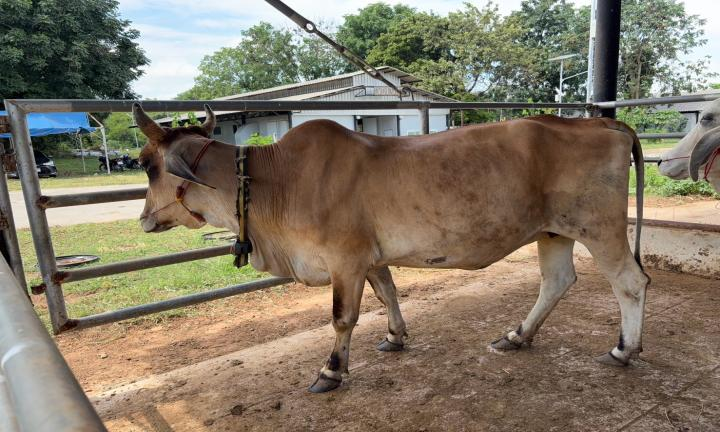Brahman: (133, 103, 648, 391)
